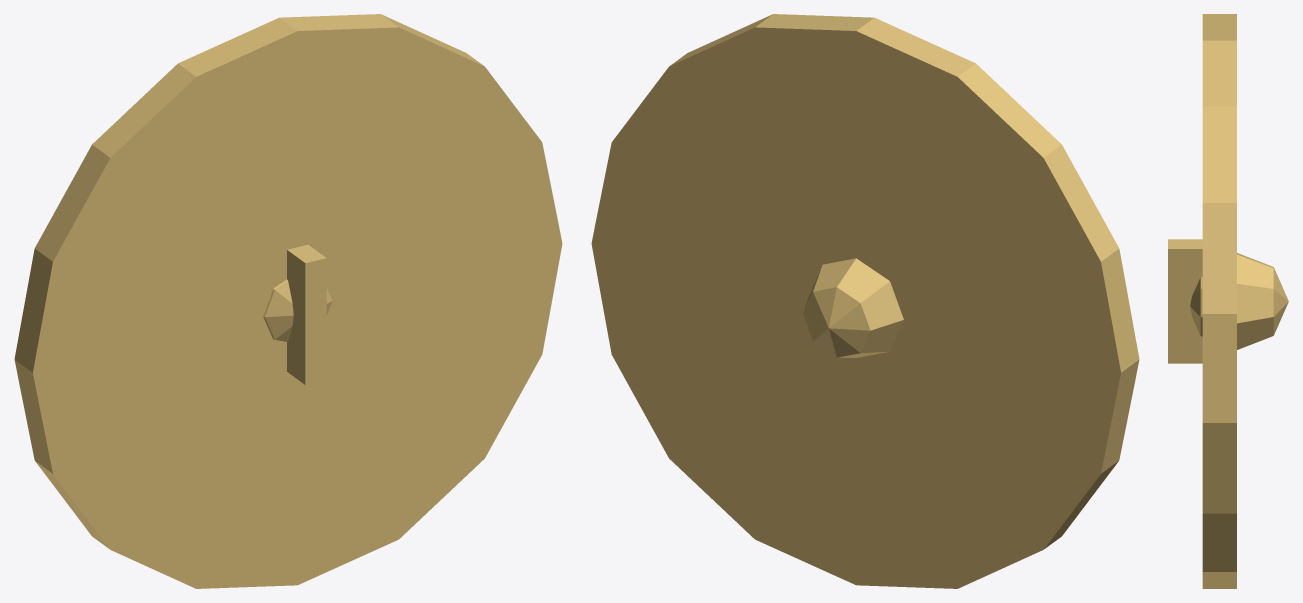
The model's file is shield.glb.
3 views of the same model, side by side, from view 1: azimuth 30°, elevation 25°; view 2: azimuth 150°, elevation 25°; view 3: azimuth 270°, elevation 25° (orthographic). The views are drawn at different scales.
Visible parts, largest first — view 1: shield; view 2: shield; view 3: shield.
Boxes of the visible parts, left/top/right/bottom form: shield: left=14, top=14, right=562, bottom=588; shield: left=591, top=14, right=1139, bottom=588; shield: left=1168, top=14, right=1288, bottom=588.
Size of the model in its own units: 1 by 1 by 0.21.
